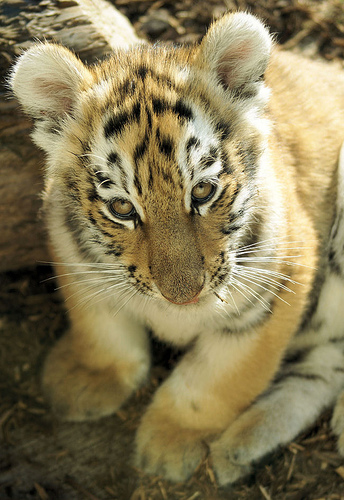Tigre: (12, 13, 332, 393)
